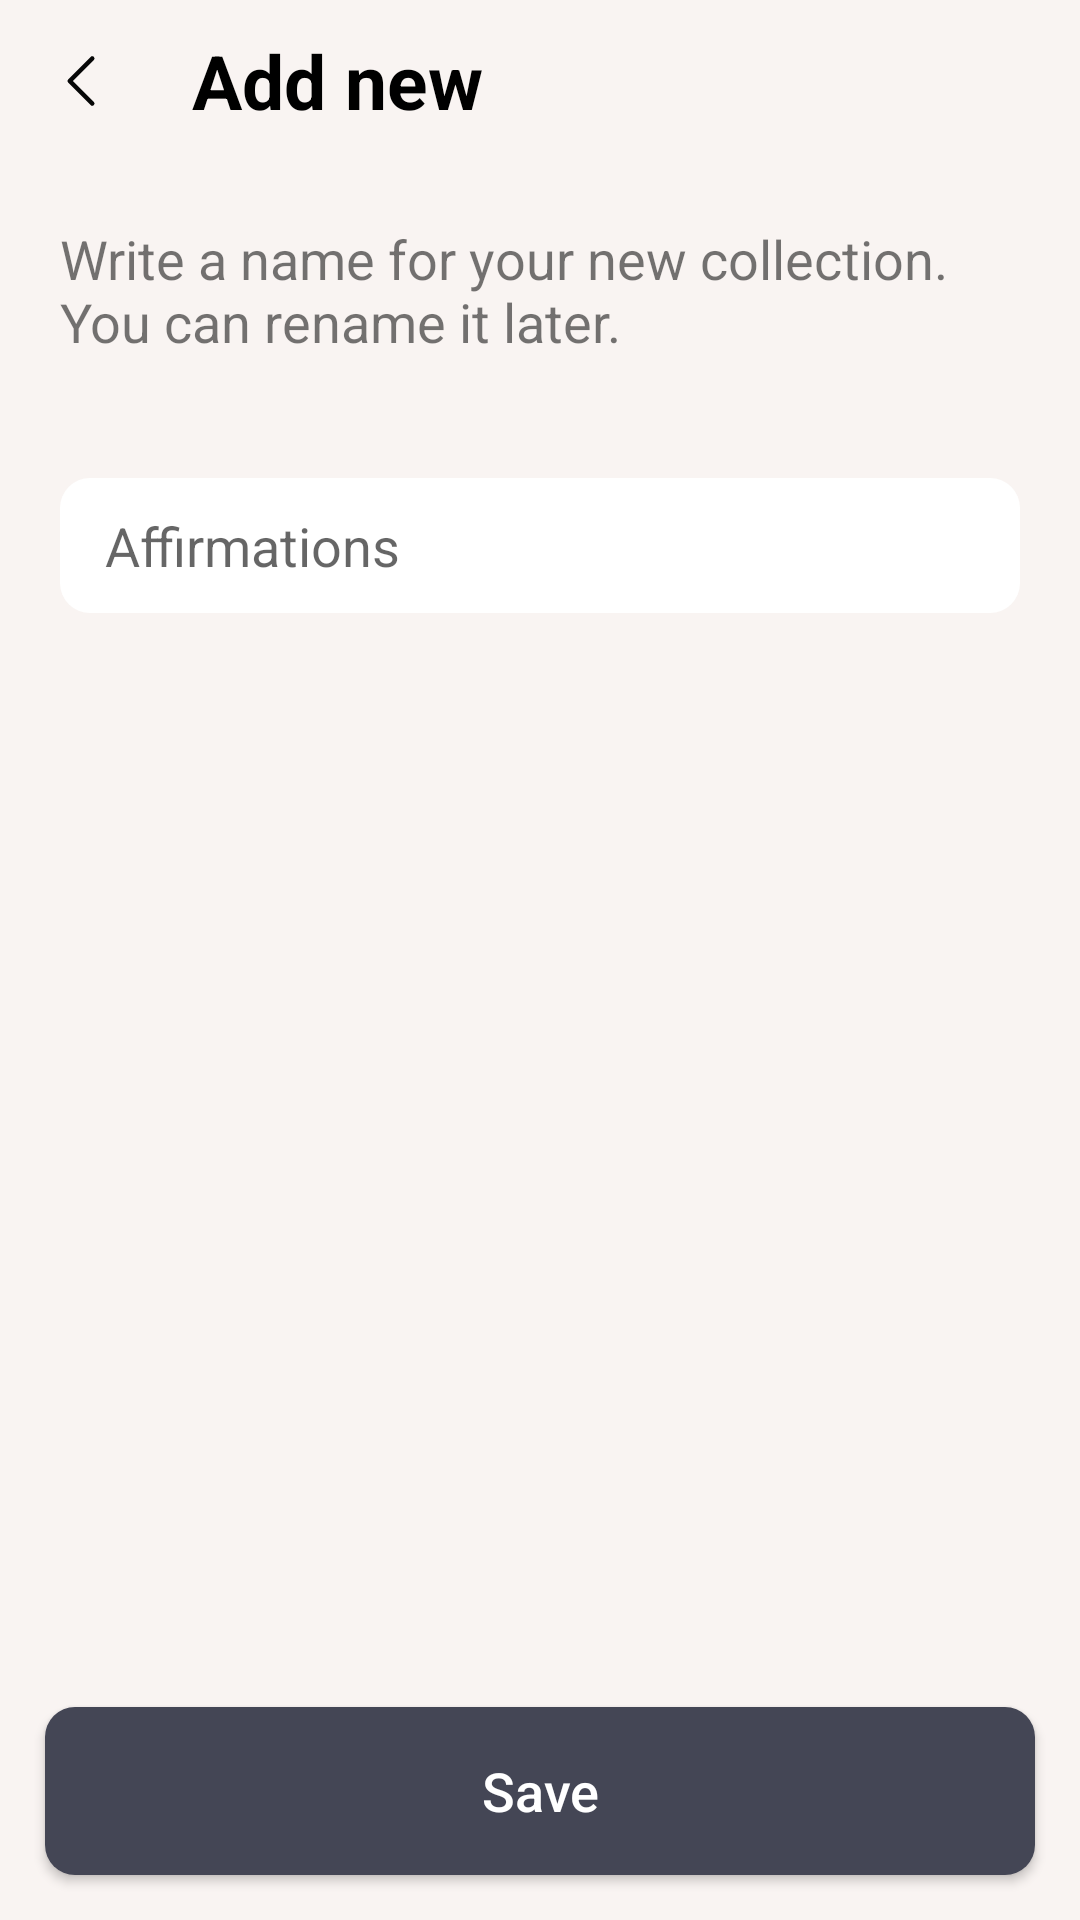

Named icons in this screenshot (1080 × 1920) and their bounding boxes, (x1=x1, y1=y1, x2=x2, y2=y2):
back: (x1=67, y1=56, x2=95, y2=106)
